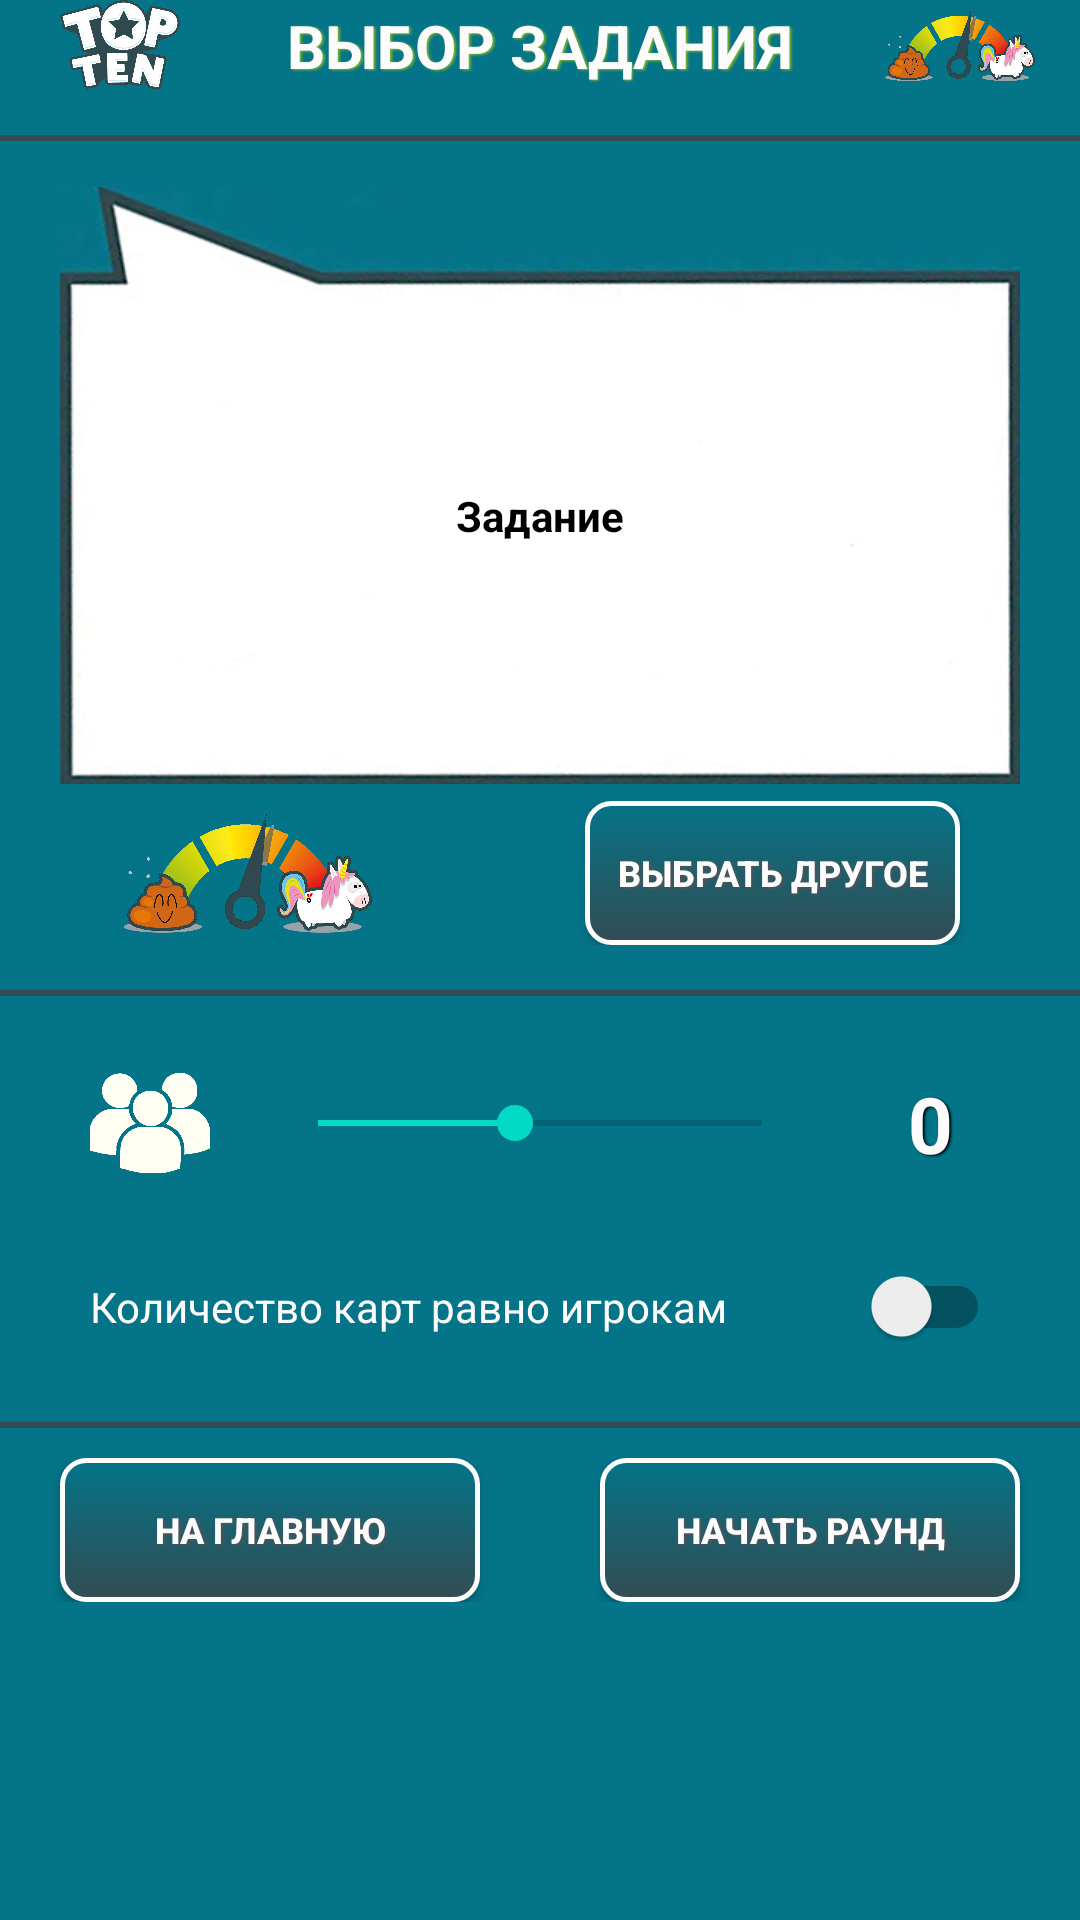

Locate icon controls on the screen. Image size 1080×1920, boxes as (x1, y1, x2, y2).
players: (90, 1073, 210, 1173)
